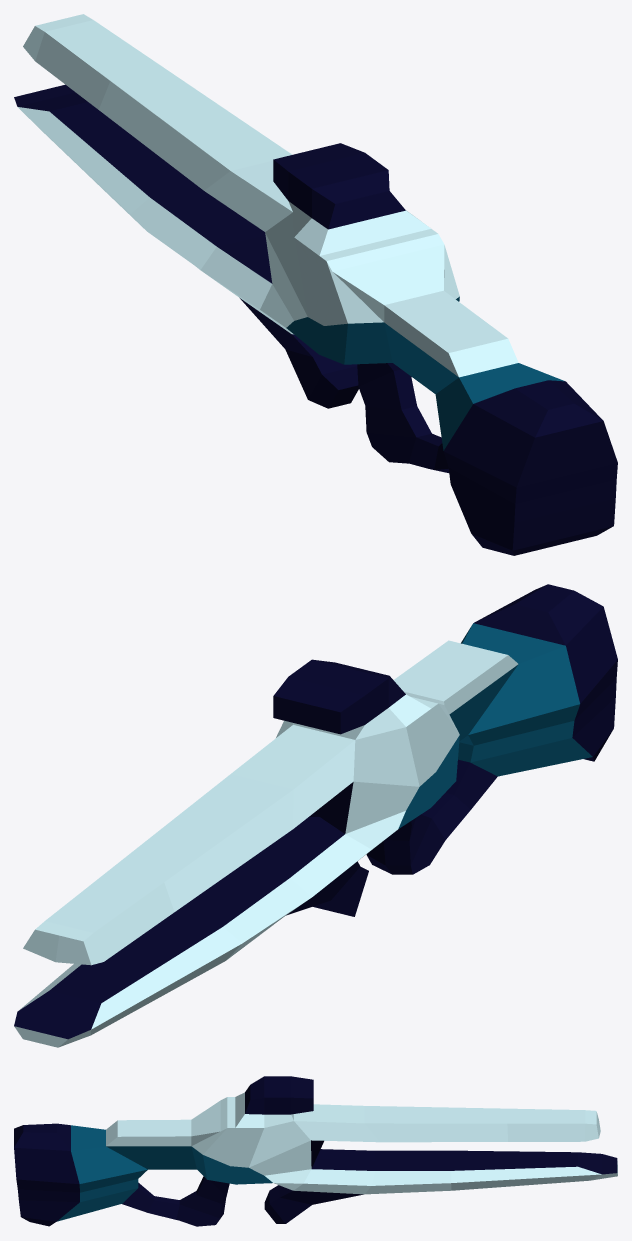
Rendered from __Model_Rifle.fbx.
The picture shows the model from 3 angles, top to bottom: view 1: azimuth 30°, elevation 25°; view 2: azimuth 150°, elevation 25°; view 3: azimuth 270°, elevation 25°; orthographic projection. The views are drawn at different scales.
Parts seen in each view (by area): view 1: Cube; view 2: Cube; view 3: Cube.
Boxes of the visible parts, x1,y1,x2,y2 form: Cube: (14,14,617,555); Cube: (14,584,617,1047); Cube: (14,1076,617,1226).
Size of the model in its own units: 0.7395 by 4.95 by 1.25.
1 material, 1 textured.
